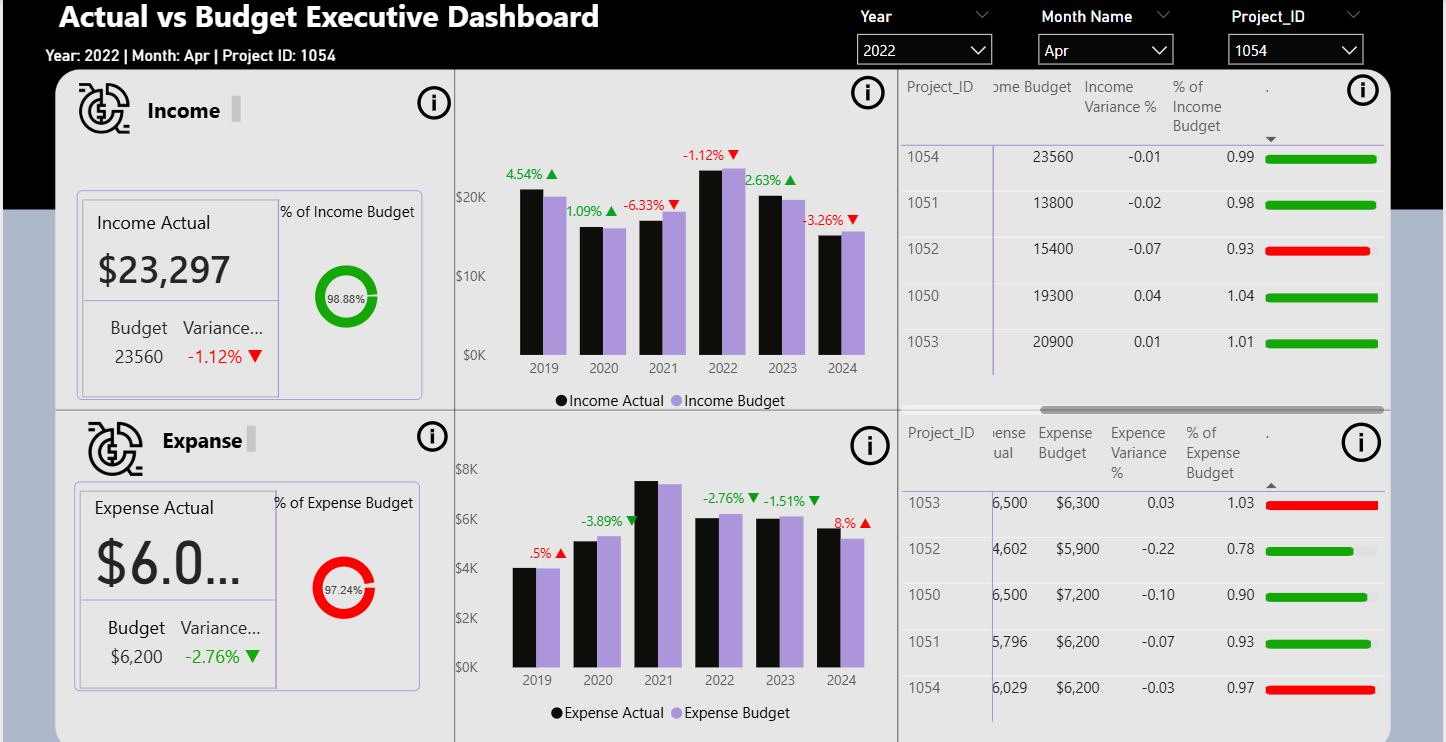

The page's visual inventory and layout, read from the dashboard file:
{"tool":"powerbi","page":{"name":"Page 1","canvas":[1280,720],"ordinal":0},"visuals":[{"type":"slicer","fields":{"Values":["Data.Year"]},"box":[749.3,10.9,140.4,62.9],"z":0},{"type":"shape","box":[65.5,179.2,307.5,186.4],"z":0,"group":"g1"},{"type":"shape","box":[63,438.2,307.5,186.4],"z":0,"group":"g2"},{"type":"slicer","fields":{"Values":["Data.Project_ID"]},"box":[1078.6,10.9,140.4,62.9],"z":1000},{"type":"cardVisual","fields":{"Data":["Key Measures (2).Income Actual"]},"box":[65.4,182.9,185.2,186.4],"z":1000,"group":"g1"},{"type":"cardVisual","fields":{"Data":["Key Measures (2).Expense Actual"]},"box":[62.9,441.9,185.2,186.4],"z":1000,"group":"g2"},{"type":"slicer","fields":{"Values":["Data.Month Name"]},"box":[910.3,10.9,140.4,62.9],"z":2000},{"type":"cardVisual","fields":{"Data":["Key Measures (2).% of Expense Budget"]},"box":[250.6,224,112.6,102.9],"z":2000,"group":"g1"},{"type":"cardVisual","fields":{"Data":["Key Measures (2).% of Expense Budget"]},"box":[248.1,483,112.6,102.9],"z":2000,"group":"g2"},{"type":"group","id":"g1","title":"Group 1","box":[65.4,179.2,307.5,190],"z":3000},{"type":"textbox","box":[240.9,184.1,131.9,39.9],"z":3000,"group":"g1"},{"type":"textbox","box":[234.9,442.8,140.4,39.9],"z":3000,"group":"g2"},{"type":"group","id":"g2","title":"Group 1","box":[62.9,438.2,312.4,190.1],"z":4000},{"type":"clusteredColumnChart","fields":{"Y":["Key Measures (2).Income Actual","Key Measures (2).Income Budget"],"Category":["Data.Year"]},"box":[397,123.5,397,261.5],"z":5000},{"type":"clusteredColumnChart","fields":{"Y":["Key Measures (2).Expense Actual","Key Measures (2).Expense Budget"],"Category":["Data.Year"]},"box":[397,400.7,397,261.5],"z":6000},{"type":"pivotTable","fields":{"Rows":["Data.Project_ID"],"Values":["Key Measures (2).Income Actual","Key Measures (2).Income Budget","Key Measures (2).Income Variance %","Key Measures (2).% of Income Budget","Key Measures (2).Income Bar Chart"]},"box":[793.9,72.4,439.8,311.2],"z":7000},{"type":"pivotTable","fields":{"Rows":["Data.Project_ID"],"Values":["Key Measures (2).Expense Actual","Key Measures (2).Expense Budget","Key Measures (2).Expence Variance %","Key Measures (2).% of Expense Budget","Key Measures (2).Expense Bar Chart"]},"box":[794.1,380.1,439.4,311.1],"z":8000},{"type":"textbox","box":[123.5,89.6,93.2,33.9],"z":8001},{"type":"textbox","box":[136.8,383.7,93.2,33.9],"z":8002},{"type":"image","box":[44.8,78.7,92,54.5],"z":8003},{"type":"image","box":[65.4,380.1,69,58.1],"z":8004},{"type":"textbox","box":[44.9,0,606.1,55.1],"z":8005},{"type":"card","fields":{"Values":["Key Measures (2).Dynamic Header"]},"box":[0,41.8,333.7,36.7],"z":8006},{"type":"actionButton","box":[363.3,78.6,39.8,44.9],"z":8007},{"type":"actionButton","box":[363.3,377.6,36.7,39.8],"z":8008},{"type":"actionButton","box":[749,72.4,45.9,39.8],"z":8009},{"type":"actionButton","box":[1189.8,67.3,37.8,44.9],"z":8010},{"type":"actionButton","box":[1184.7,379.6,49,45.9],"z":8011},{"type":"actionButton","box":[748,378.6,45.9,54.1],"z":8012}]}

Visuals, with their boxes on the page's 1280x720 design canvas (x1, y1, x2, y2). These are canvas units, not pixel positions in the 1446x742 screenshot, which may show the page scaled, cropped or inside an application window:
slicer - Data.Year: [x1=749, y1=11, x2=890, y2=74]
shape: [x1=66, y1=179, x2=373, y2=366]
shape: [x1=63, y1=438, x2=370, y2=625]
slicer - Data.Project_ID: [x1=1079, y1=11, x2=1219, y2=74]
cardVisual - Key Measures (2).Income Actual: [x1=65, y1=183, x2=251, y2=369]
cardVisual - Key Measures (2).Expense Actual: [x1=63, y1=442, x2=248, y2=628]
slicer - Data.Month Name: [x1=910, y1=11, x2=1051, y2=74]
cardVisual - Key Measures (2).% of Expense Budget: [x1=251, y1=224, x2=363, y2=327]
cardVisual - Key Measures (2).% of Expense Budget: [x1=248, y1=483, x2=361, y2=586]
"Group 1" group: [x1=65, y1=179, x2=373, y2=369]
textbox: [x1=241, y1=184, x2=373, y2=224]
textbox: [x1=235, y1=443, x2=375, y2=483]
"Group 1" group: [x1=63, y1=438, x2=375, y2=628]
clusteredColumnChart - Key Measures (2).Income Actual x Key Measures (2).Income Budget: [x1=397, y1=124, x2=794, y2=385]
clusteredColumnChart - Key Measures (2).Expense Actual x Key Measures (2).Expense Budget: [x1=397, y1=401, x2=794, y2=662]
pivotTable - Data.Project_ID x Key Measures (2).Income Actual: [x1=794, y1=72, x2=1234, y2=384]
pivotTable - Data.Project_ID x Key Measures (2).Expense Actual: [x1=794, y1=380, x2=1234, y2=691]
textbox: [x1=124, y1=90, x2=217, y2=124]
textbox: [x1=137, y1=384, x2=230, y2=418]
image: [x1=45, y1=79, x2=137, y2=133]
image: [x1=65, y1=380, x2=134, y2=438]
textbox: [x1=45, y1=0, x2=651, y2=55]
card - Key Measures (2).Dynamic Header: [x1=0, y1=42, x2=334, y2=78]
actionButton: [x1=363, y1=79, x2=403, y2=124]
actionButton: [x1=363, y1=378, x2=400, y2=417]
actionButton: [x1=749, y1=72, x2=795, y2=112]
actionButton: [x1=1190, y1=67, x2=1228, y2=112]
actionButton: [x1=1185, y1=380, x2=1234, y2=426]
actionButton: [x1=748, y1=379, x2=794, y2=433]
